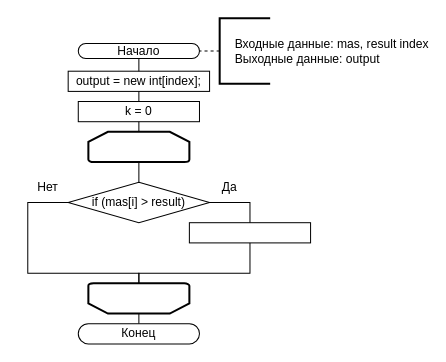
This 446x362 diagram has some shape labels left out. The shapes that lost their labels are listed below. From the top down, each one's centre as x and y in pixels, then its label:
At point (138, 146): "i = 0; length".
At point (249, 232): "output[k++] = mas[i]".
At point (138, 298): "i++".
